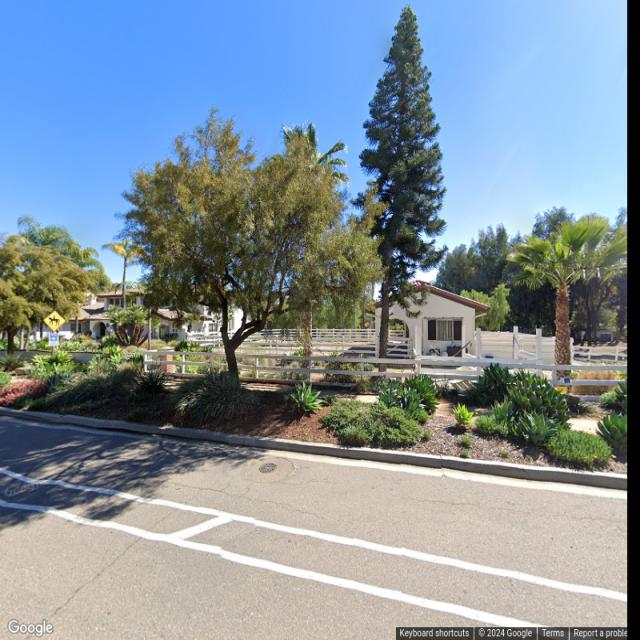House: (0, 291, 251, 342), (373, 286, 490, 357)
